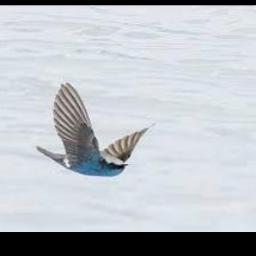Swallow: (35, 84, 153, 178)
